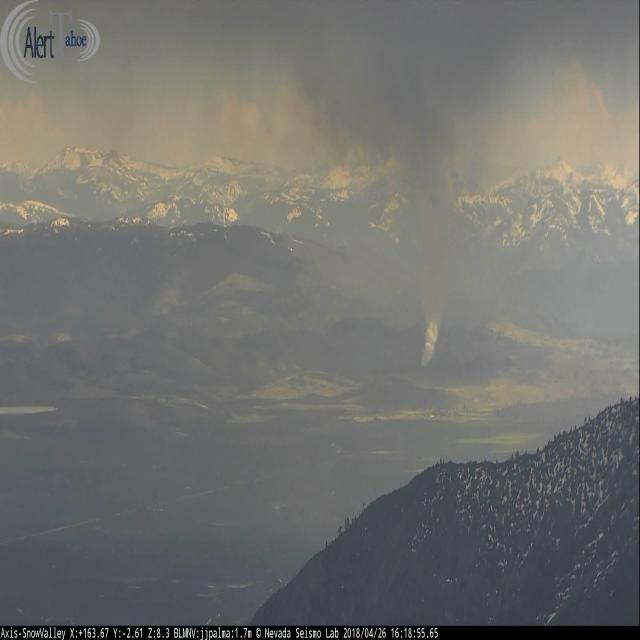smoke: (421, 87, 452, 369)
